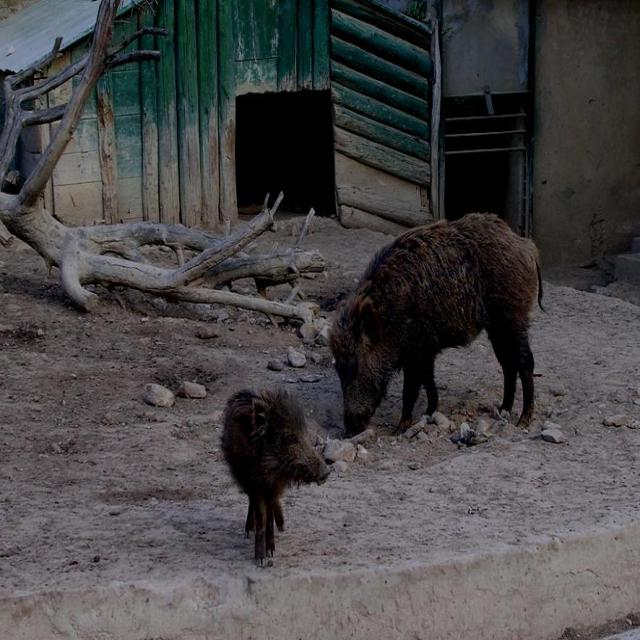pig: (330, 213, 542, 434), (221, 389, 329, 565)
